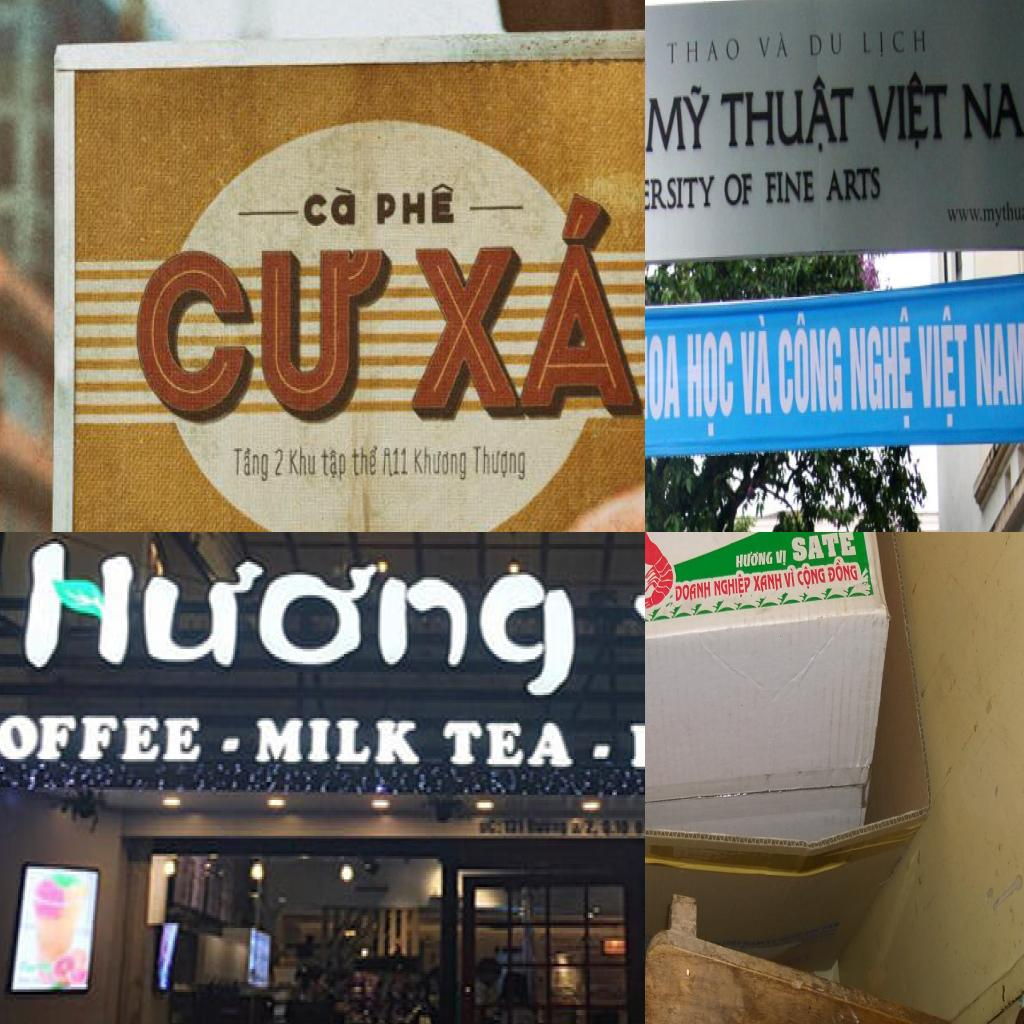text: (26, 532, 586, 705), (402, 182, 645, 426), (134, 237, 391, 428), (0, 702, 205, 769), (718, 70, 856, 162), (245, 708, 424, 777), (844, 297, 919, 438), (912, 291, 972, 437), (441, 713, 576, 772), (775, 306, 844, 418), (862, 70, 950, 156), (685, 323, 735, 442), (645, 82, 712, 161), (972, 317, 1024, 412), (958, 72, 1024, 146), (374, 180, 458, 230), (737, 310, 771, 422), (645, 328, 683, 428), (645, 169, 716, 218), (822, 163, 890, 208), (299, 182, 360, 231), (663, 35, 741, 69), (941, 196, 1024, 226), (411, 442, 469, 484), (862, 26, 928, 62), (763, 166, 817, 209), (788, 532, 858, 561), (230, 445, 271, 484), (825, 553, 863, 592), (805, 29, 846, 61), (722, 171, 754, 212), (757, 26, 791, 64), (380, 442, 412, 481), (674, 575, 712, 607), (350, 440, 380, 480), (286, 443, 318, 478), (320, 448, 347, 486), (714, 570, 750, 598), (797, 564, 827, 595), (218, 723, 245, 757), (734, 548, 774, 570), (753, 572, 783, 595), (588, 733, 614, 759), (477, 813, 504, 838), (274, 445, 286, 478), (783, 567, 797, 590), (634, 815, 645, 840), (774, 550, 788, 568), (645, 563, 649, 595)
